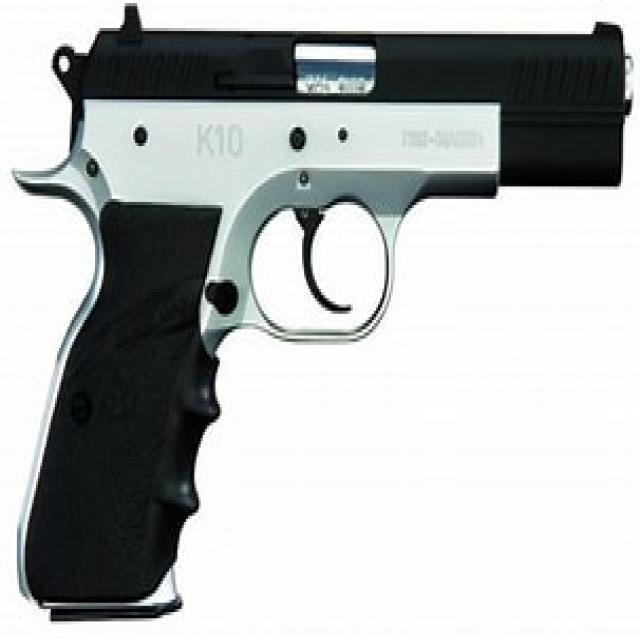Pistol: (11, 0, 640, 636)
